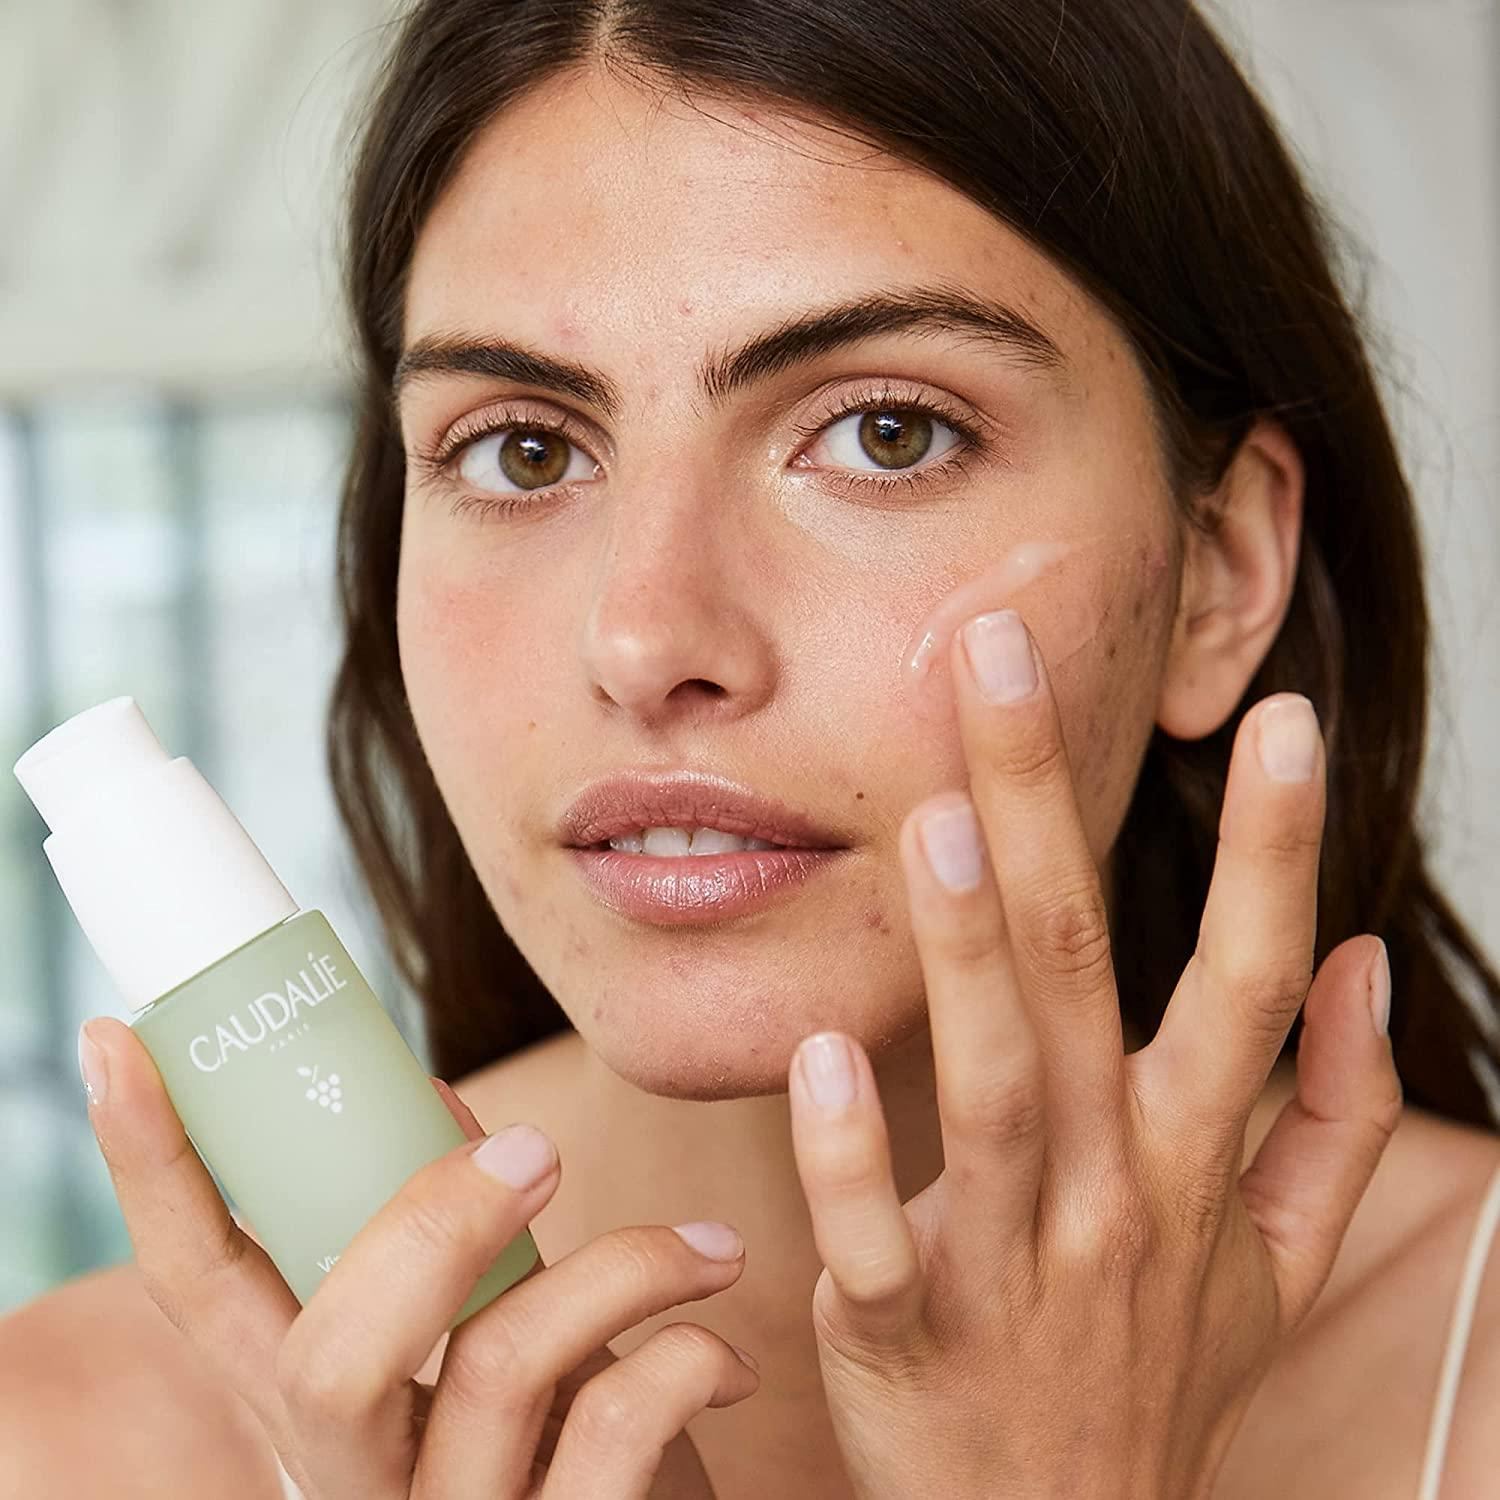Oily-Skin: (477, 168, 878, 272)
